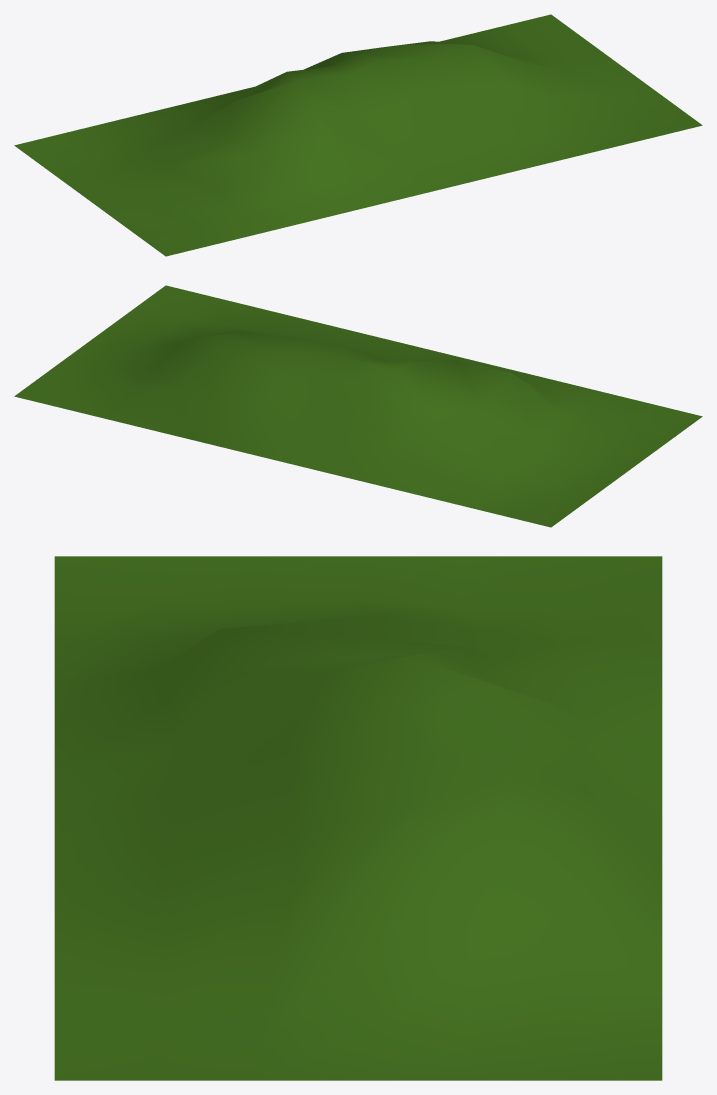
Rendered from HillTile_1.fbx.
3 renders of one model, top to bottom at view 1: azimuth 30°, elevation 25°; view 2: azimuth 150°, elevation 25°; view 3: azimuth 270°, elevation 25°, orthographic. The views are drawn at different scales.
Visible parts, largest first — view 1: HillTile_1; view 2: HillTile_1; view 3: HillTile_1.
Boxes of the visible parts, left/top/right/bottom form: HillTile_1: left=14, top=14, right=702, bottom=256; HillTile_1: left=14, top=285, right=702, bottom=527; HillTile_1: left=54, top=556, right=662, bottom=1080.
Bounding box in the file's own units: 817 × 89.48 × 400.
